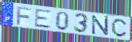0: (55, 11, 70, 31)
3: (73, 13, 90, 34)
C: (111, 18, 128, 38)
E: (34, 9, 53, 30)
F: (16, 6, 33, 26)
N: (92, 15, 110, 37)
